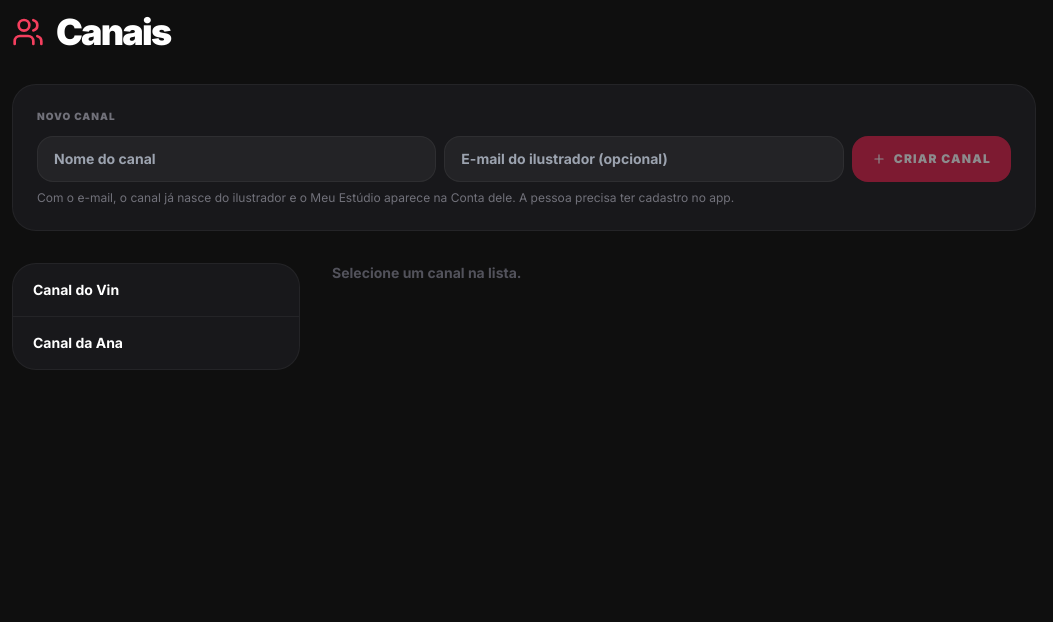
Test case: CanaisPanel — E-mail do dono (transferência) › 404 e-mail inexistente — mostra mensagem legível
The width and height of the screenshot is (1053, 622).
Click the button "Canal do Vin" at (76, 290), box [13,264,299,316]
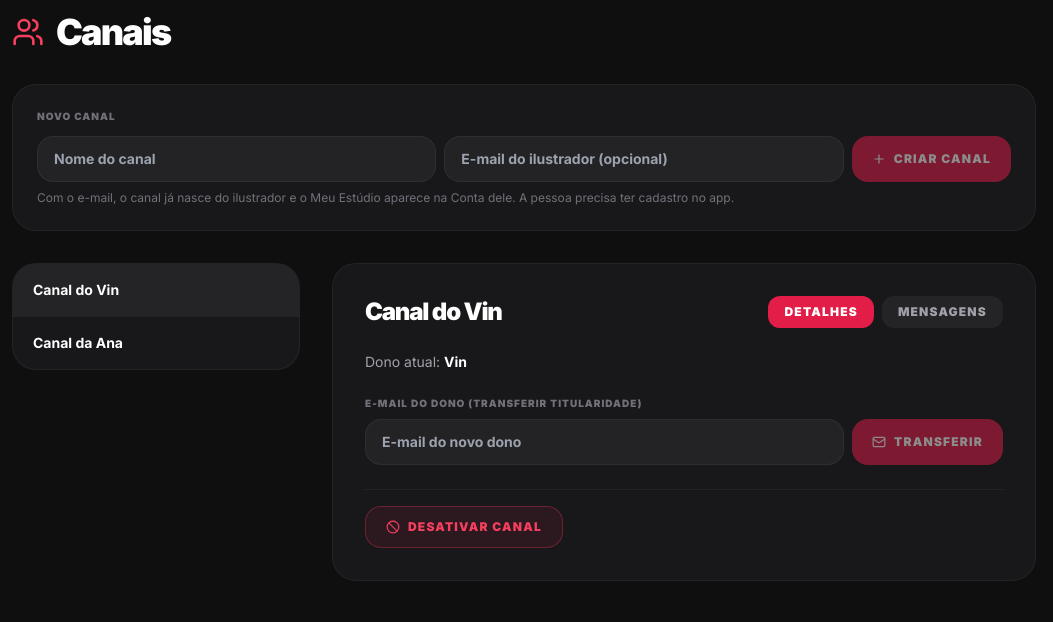
Type "nada@lorflux.test" into the field with placeholder "E-mail do novo dono" at (605, 442), box [365,419,844,465]
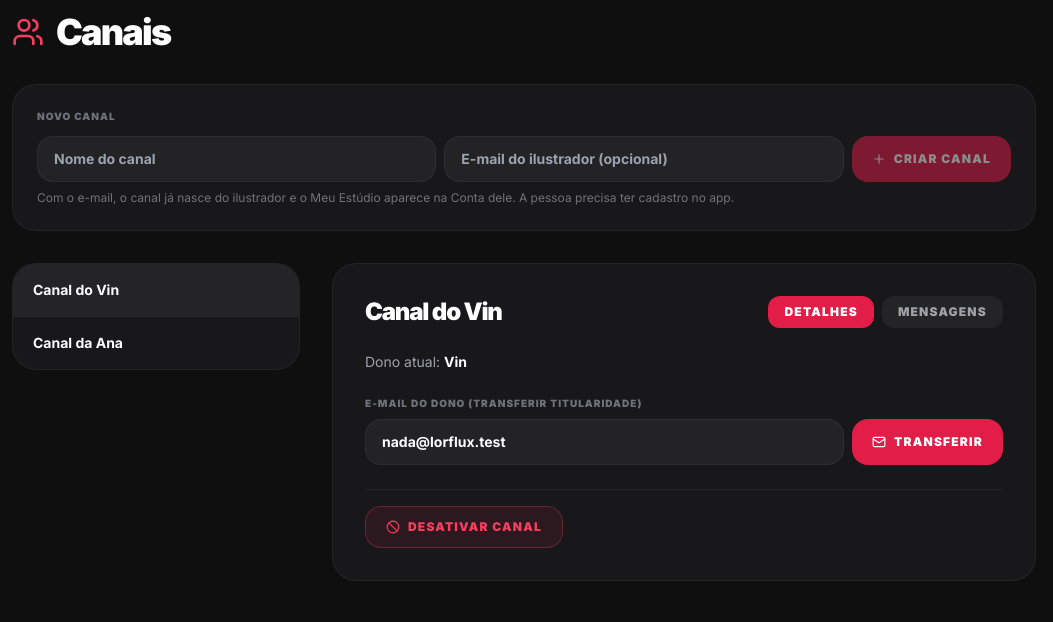
Click the button "Transferir" at (928, 442), box [852,419,1003,465]
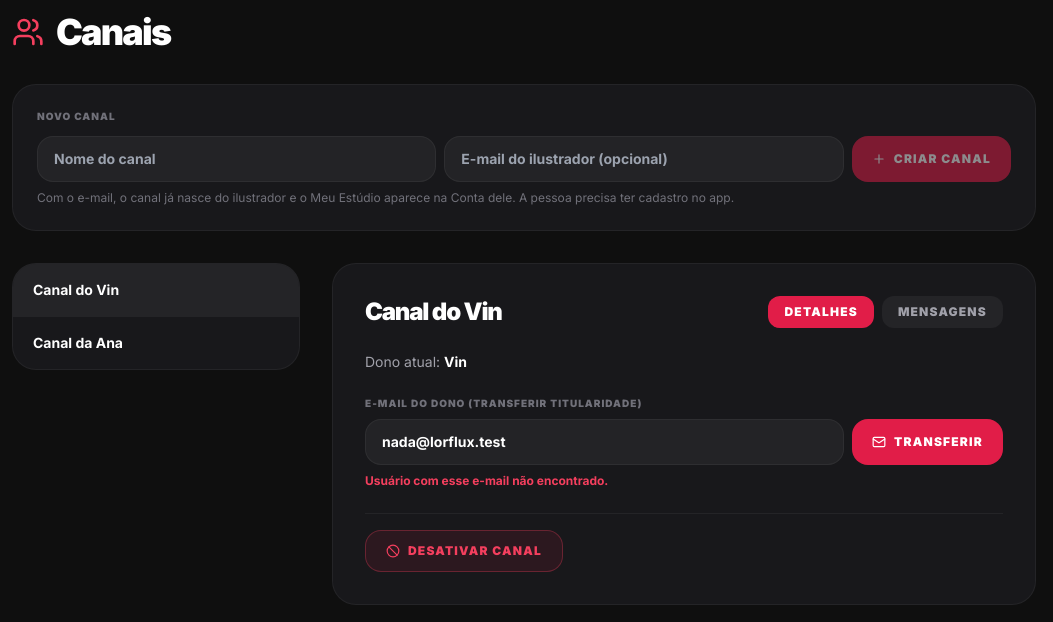
Check: the text "Usuário com esse e-mail não encontrado." is shown, box [365,473,608,488]
